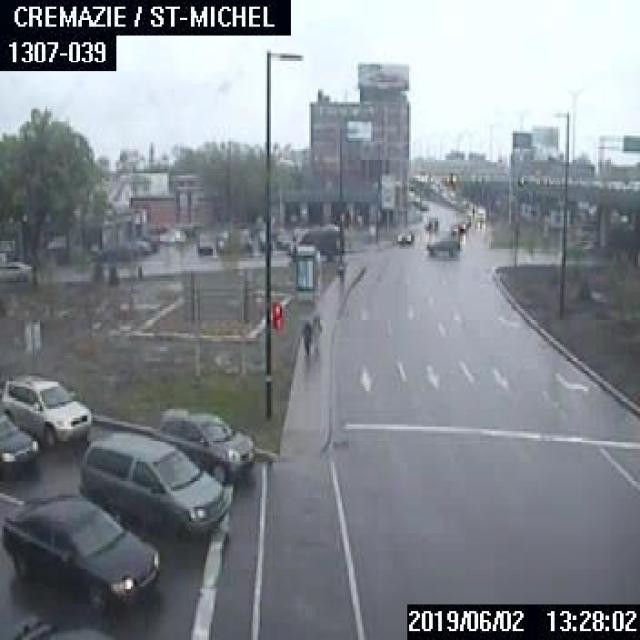pedestrian: (310, 313, 321, 354), (300, 320, 311, 356)
vehicle: (1, 491, 157, 610), (77, 428, 229, 534), (154, 406, 253, 482), (0, 371, 91, 449), (0, 613, 120, 638), (0, 411, 38, 471), (289, 224, 338, 257), (0, 259, 31, 281), (425, 236, 458, 256), (125, 237, 149, 254), (196, 232, 211, 254), (394, 227, 412, 242), (424, 216, 436, 230), (474, 206, 484, 221), (450, 221, 459, 235)
